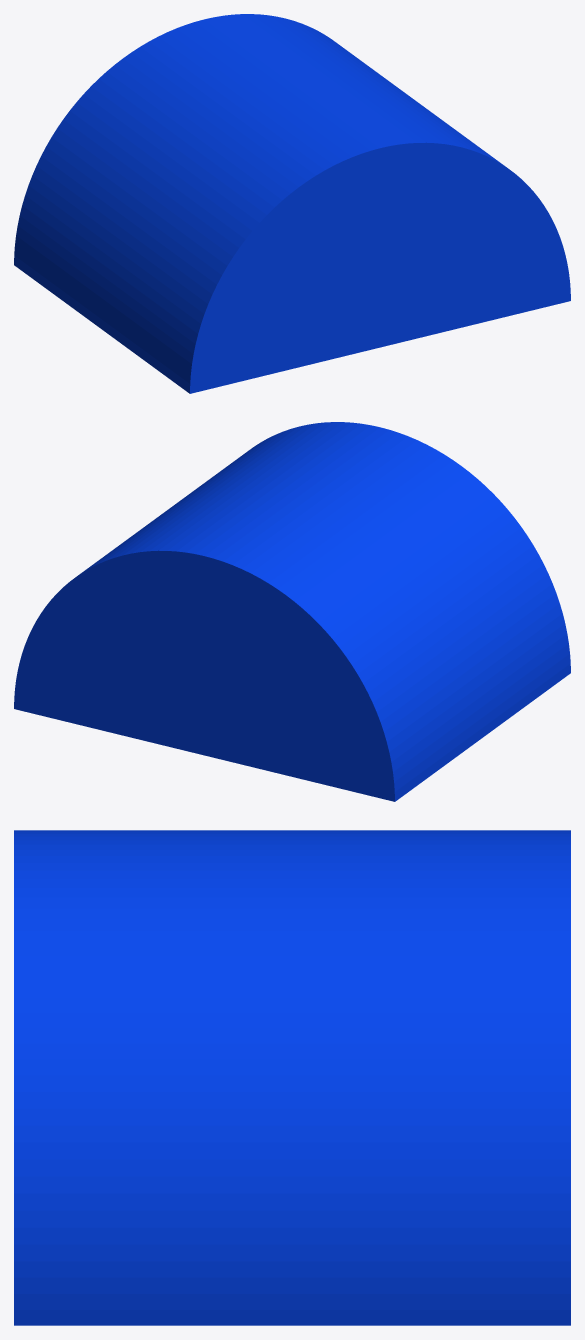
The model's file is block_blue_half_cylinder.obj.
The picture shows the model from 3 angles, top to bottom: view 1: azimuth 30°, elevation 25°; view 2: azimuth 150°, elevation 25°; view 3: azimuth 270°, elevation 25°; orthographic projection. The views are drawn at different scales.
Visible parts, largest first — view 1: block_blue_half_cylinder; view 2: block_blue_half_cylinder; view 3: block_blue_half_cylinder.
Part boxes in pixels (box(x1,y1,x2,y2)): block_blue_half_cylinder: box(14, 14, 570, 393); block_blue_half_cylinder: box(14, 422, 570, 801); block_blue_half_cylinder: box(14, 830, 570, 1325).
Bounding box in the file's own units: 0.05 × 0.025 × 0.04.
